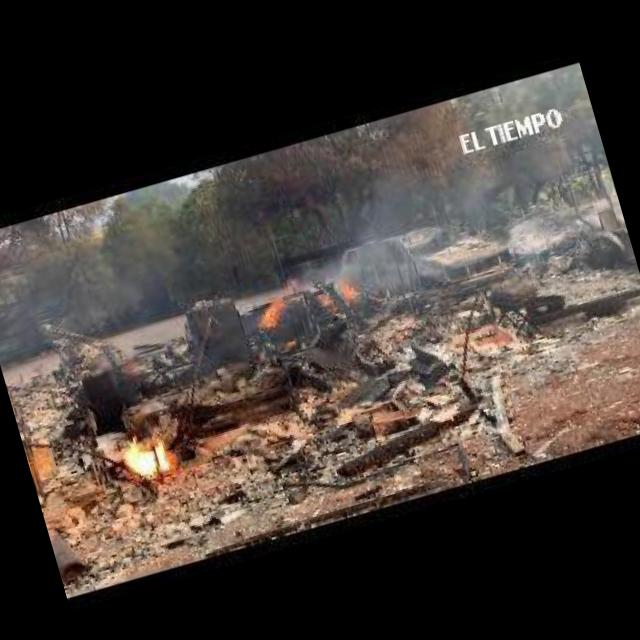fire: (119, 429, 174, 478), (255, 302, 283, 330), (342, 276, 356, 295), (280, 333, 298, 346)
